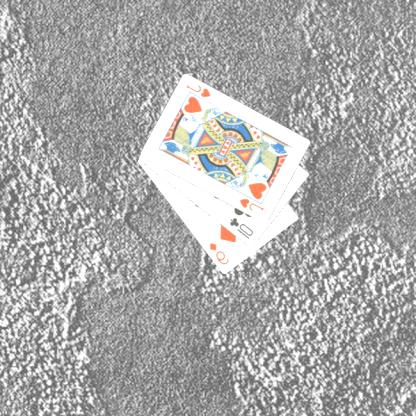10C: (228, 214, 256, 240)
6D: (208, 240, 232, 266)
JH: (185, 82, 214, 99), (238, 196, 268, 212)
